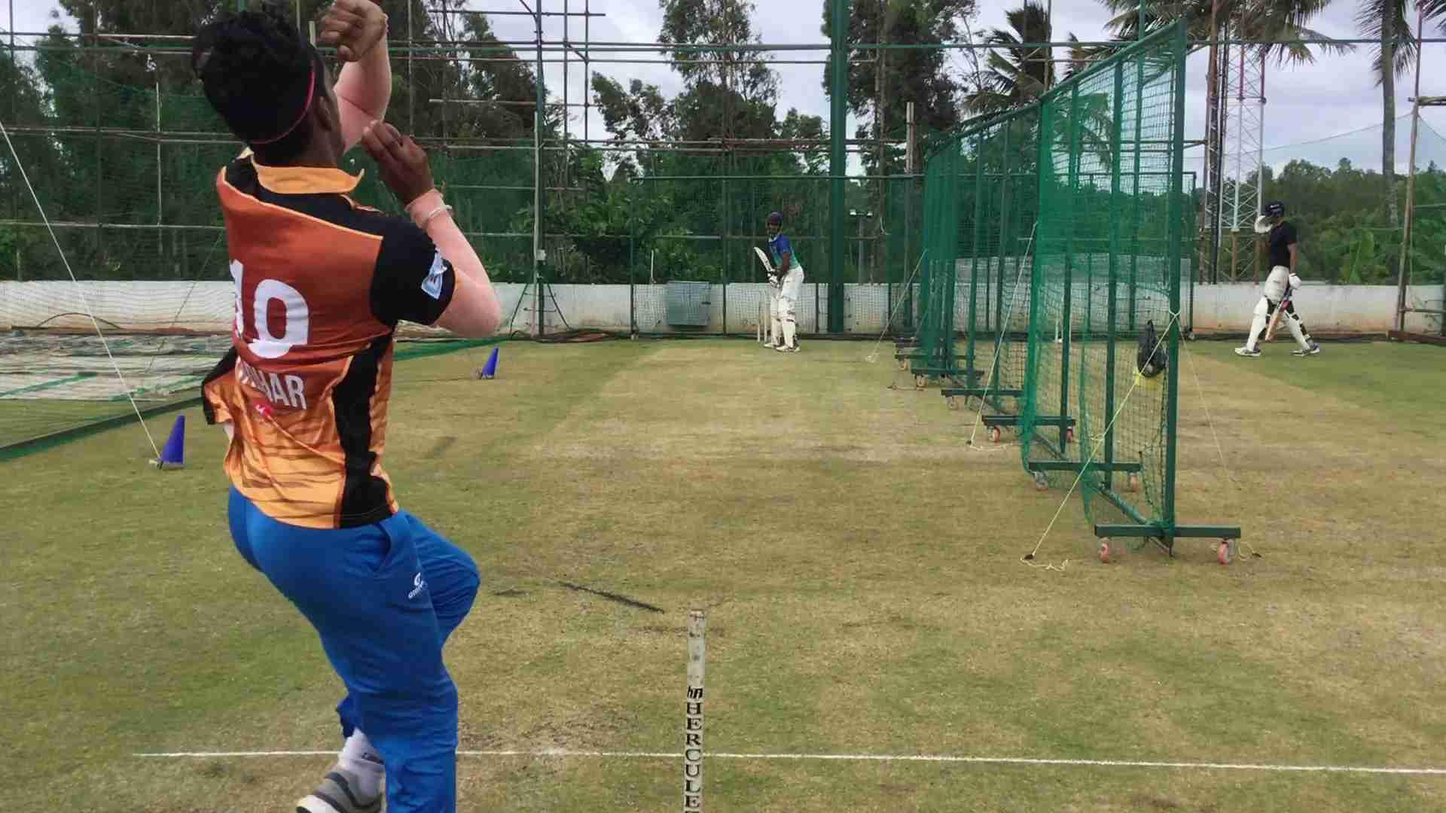batsman: (759, 203, 811, 358)
